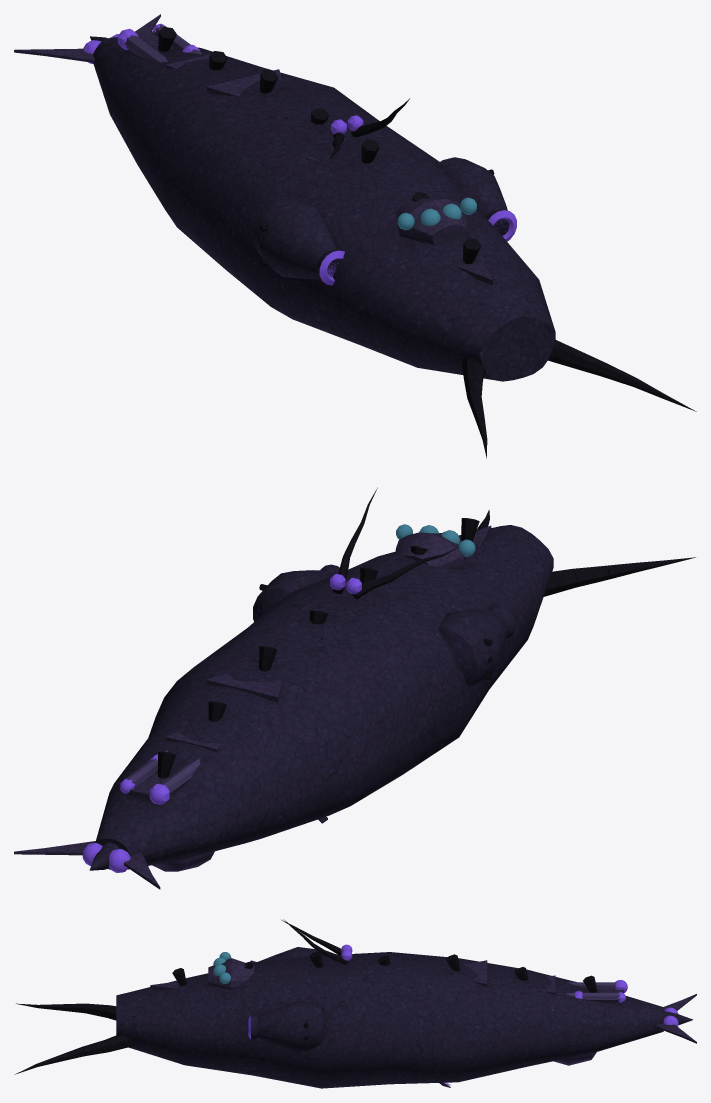
The model's file is void_destroyer.glb.
3 renders of one model, top to bottom at view 1: azimuth 30°, elevation 25°; view 2: azimuth 150°, elevation 25°; view 3: azimuth 270°, elevation 25°, orthographic. The views are drawn at different scales.
Parts seen in each view (by area): view 1: HULL, SYS_WPN2, SYS_BRIDGE, SYS_WPN1, SYS_BUS_A, SYS_DRIVE, SYS_SENSORS; view 2: HULL, SYS_WPN2, SYS_BRIDGE, SYS_DRIVE, SYS_WPN1, SYS_SENSORS, SYS_BUS_A; view 3: HULL, SYS_WPN1, SYS_BRIDGE, SYS_BUS_A, SYS_DRIVE, SYS_SENSORS, SYS_WPN2.
Boxes of the visible parts, x1=… form: HULL: x1=93, y1=26, x2=696, y2=458; SYS_WPN2: x1=254, y1=197, x2=344, y2=285; SYS_BRIDGE: x1=397, y1=197, x2=476, y2=244; SYS_WPN1: x1=440, y1=157, x2=516, y2=241; SYS_BUS_A: x1=118, y1=23, x2=201, y2=62; SYS_DRIVE: x1=14, y1=14, x2=160, y2=63; SYS_SENSORS: x1=330, y1=98, x2=409, y2=159; HULL: x1=95, y1=509, x2=695, y2=869; SYS_WPN2: x1=438, y1=604, x2=515, y2=686; SYS_BRIDGE: x1=395, y1=524, x2=475, y2=569; SYS_DRIVE: x1=14, y1=841, x2=160, y2=889; SYS_WPN1: x1=253, y1=564, x2=339, y2=621; SYS_SENSORS: x1=330, y1=487, x2=458, y2=599; SYS_BUS_A: x1=120, y1=750, x2=200, y2=804; HULL: x1=14, y1=951, x2=663, y2=1088; SYS_WPN1: x1=248, y1=1001, x2=328, y2=1051; SYS_BRIDGE: x1=208, y1=952, x2=254, y2=989; SYS_BUS_A: x1=566, y1=980, x2=627, y2=1002; SYS_DRIVE: x1=654, y1=994, x2=696, y2=1043; SYS_SENSORS: x1=281, y1=919, x2=352, y2=964; SYS_WPN2: x1=250, y1=947, x2=323, y2=963.
Bounding box in the file's own units: 14.33 × 14.32 × 54.23.
1 material, 1 textured.
